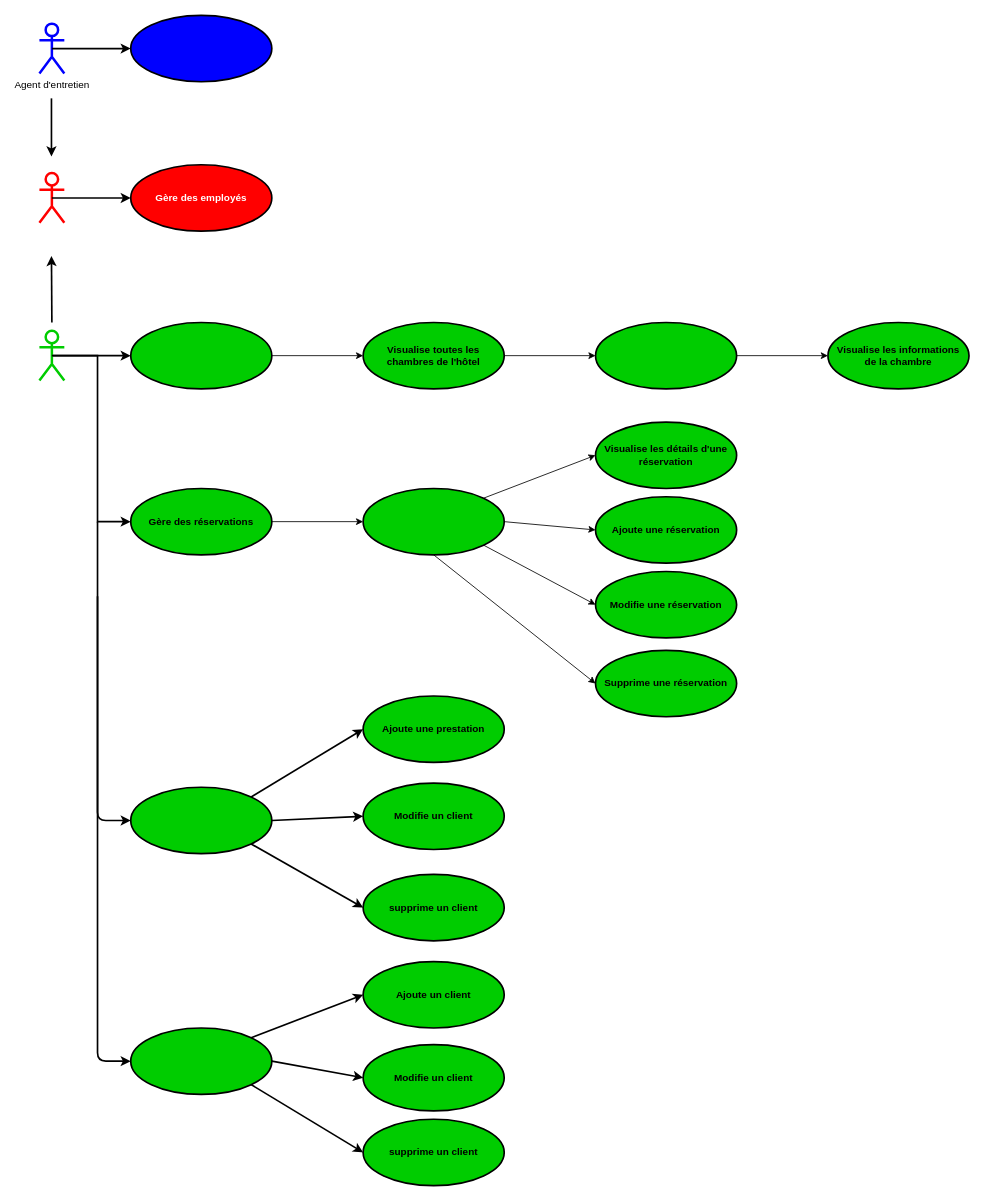
Some shapes in this 984 by 1200 pixel diagram are drawn without their labels. The centre of each missing label's shape, as x and y in pixels:
"Gère des chambres" goes at (200,355).
"Gère des clients" goes at (200,1061).
"Gère des prestations" goes at (200,820).
"Gérant" goes at (51,197).
"Nettoie des chambres" goes at (200,48).
"Réceptionniste" goes at (51,355).
"Visualise toutes les chambres d'un étage" goes at (665,355).
"Visualise toutes les réservations sur une période donnée" goes at (433,521).
